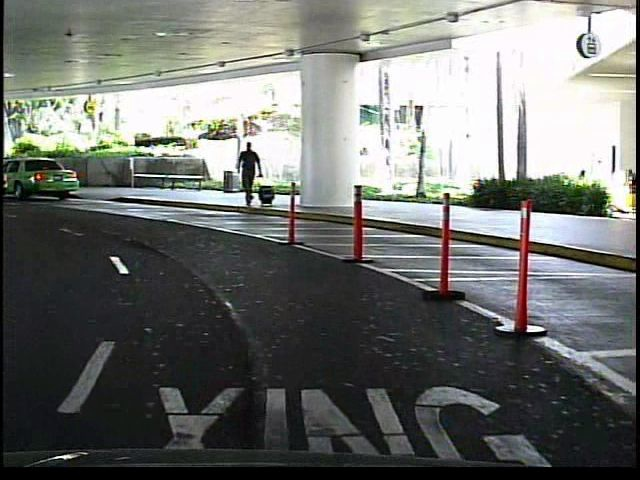person: (234, 136, 266, 211)
